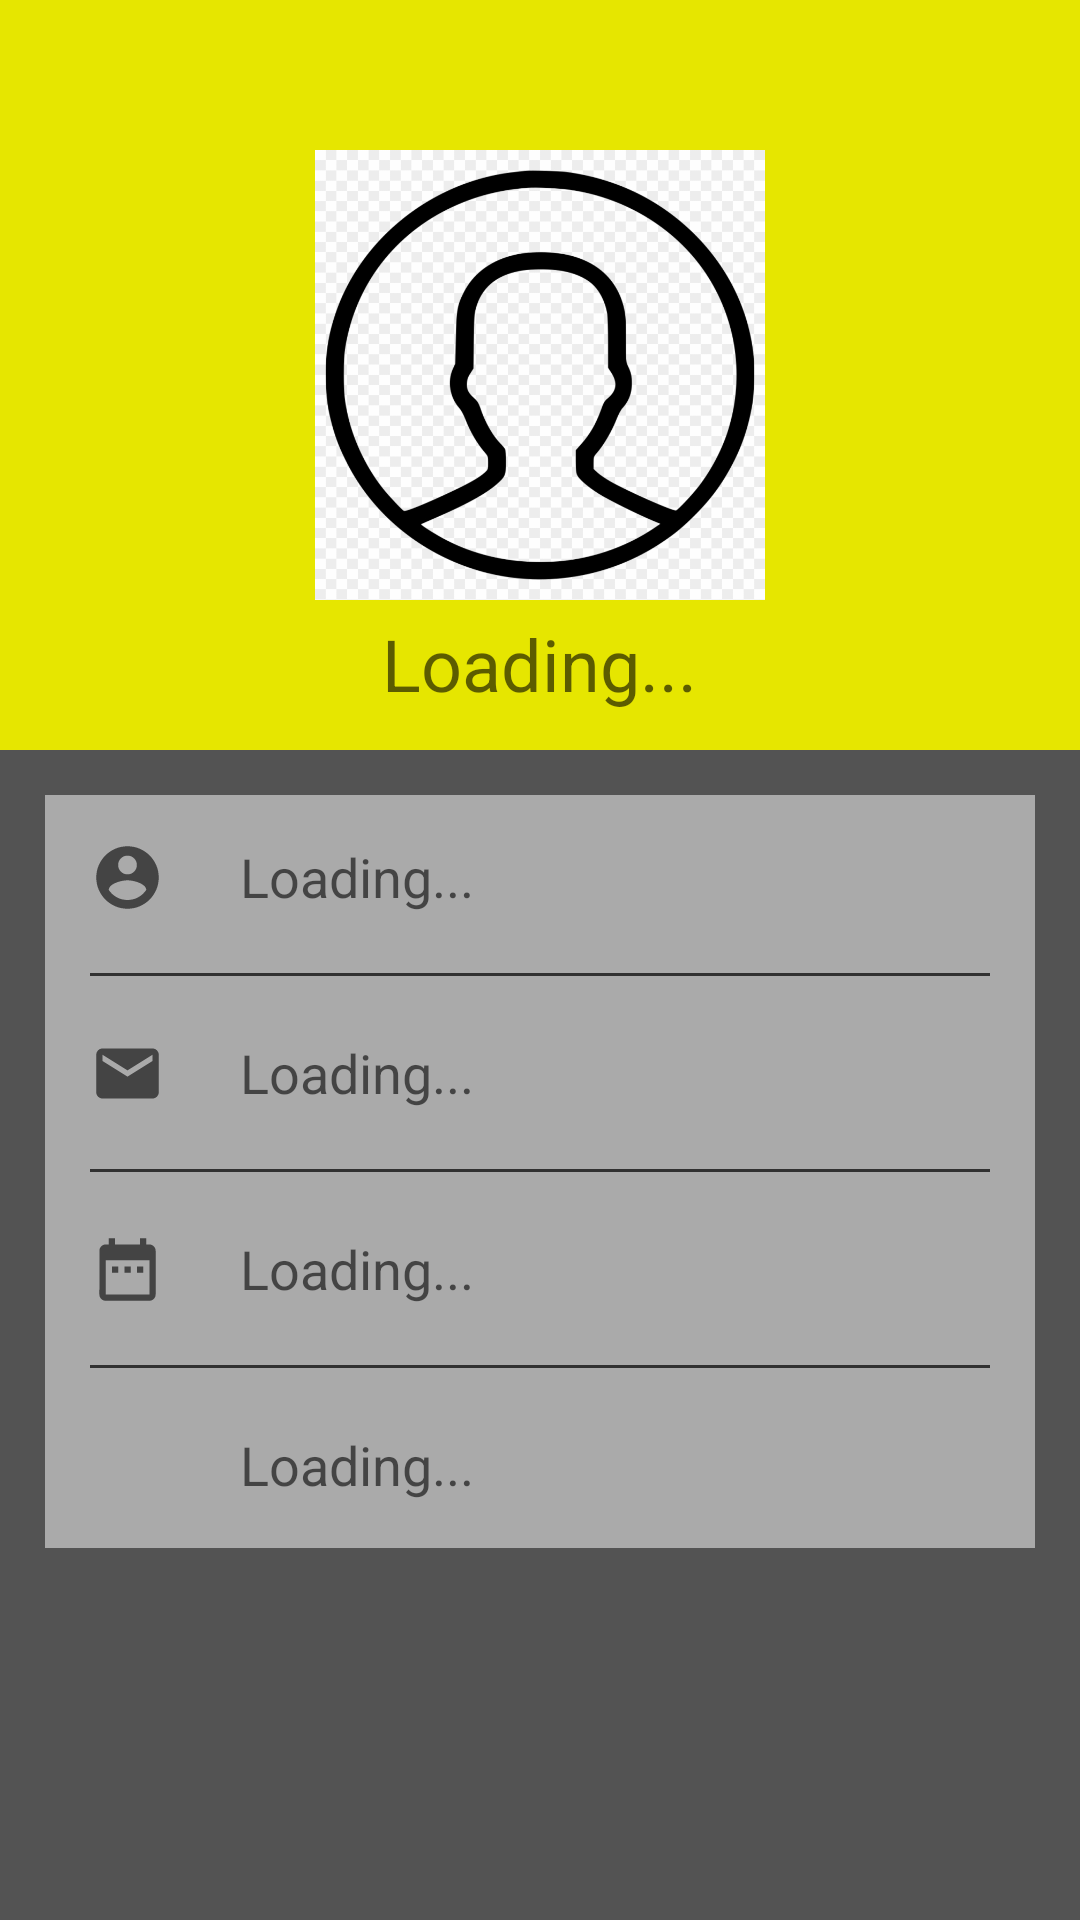

Icons on this 1080w x 1920h Android screen, each with its box as (x1, y1, x2, y2):
Date of Birth(dd/mm/yyyy)*: (99, 1238, 156, 1301)
Email Address*: (96, 1048, 159, 1099)
user: (96, 846, 159, 909)
